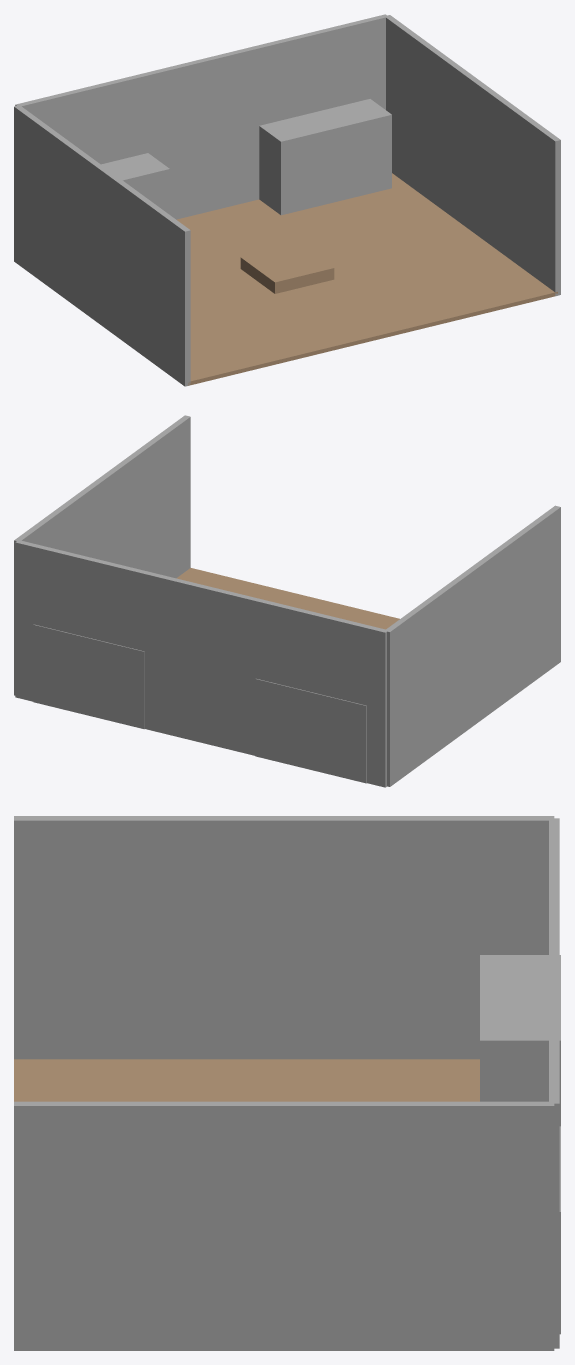
File: warehouse_bay.glb
3 renders of one model, top to bottom at view 1: azimuth 30°, elevation 25°; view 2: azimuth 150°, elevation 25°; view 3: azimuth 270°, elevation 25°, orthographic. The views are drawn at different scales.
Visible parts, largest first — view 1: floor, back, left, right, rack2, pallet, rack; view 2: back, left, right, rack2, rack, floor; view 3: right, left, floor, rack, back.
Boxes of the visible parts, x1,y1,x2,y2 form: floor: [176, 173, 557, 385]; back: [15, 14, 388, 219]; left: [14, 105, 190, 386]; right: [386, 15, 560, 296]; rack2: [259, 99, 391, 215]; pallet: [240, 243, 334, 293]; rack: [101, 153, 169, 214]; back: [15, 540, 388, 787]; left: [386, 505, 560, 786]; right: [14, 415, 190, 695]; rack2: [33, 624, 144, 729]; rack: [255, 678, 366, 783]; floor: [176, 568, 399, 629]; right: [14, 1101, 554, 1350]; left: [14, 816, 554, 1059]; floor: [14, 1059, 479, 1101]; rack: [480, 955, 560, 1126]; back: [549, 818, 559, 1348].
Size of the model in its own units: 10.16 by 4 by 8.1.
